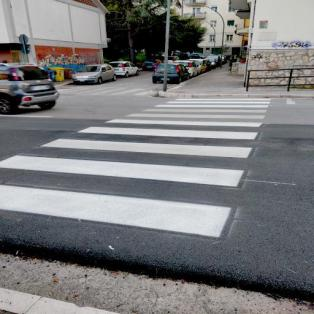Paso de Cebra: (34, 125, 263, 161), (150, 99, 274, 110)
